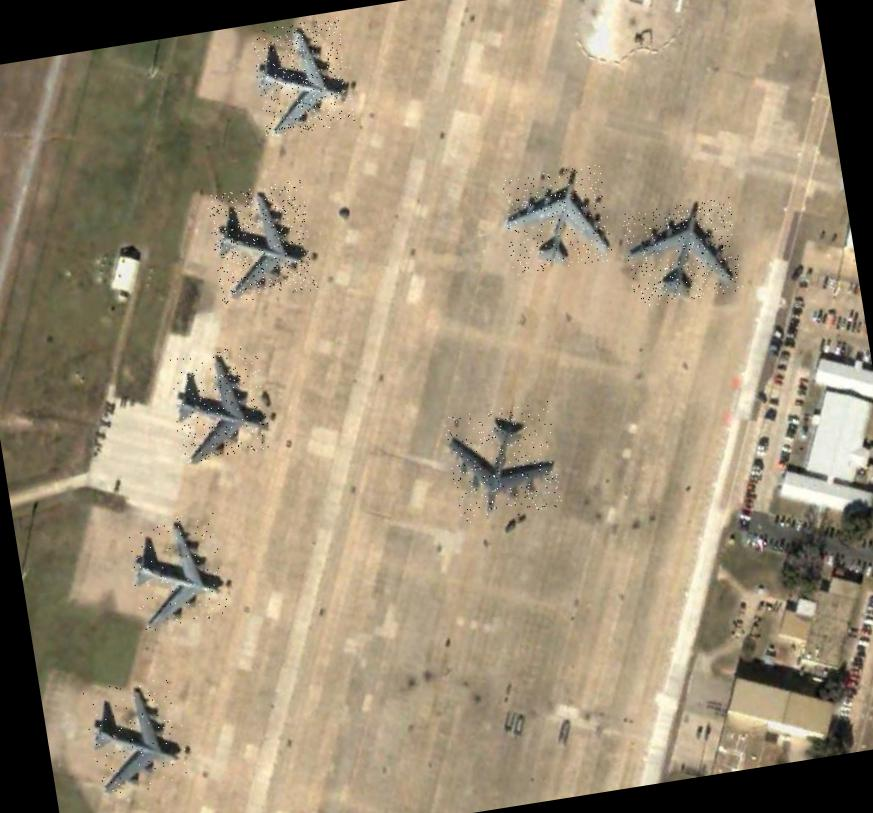A8: (442, 400, 564, 524), (205, 180, 318, 304), (620, 196, 744, 308), (82, 675, 191, 798), (498, 164, 615, 276), (165, 344, 272, 466), (249, 16, 355, 138), (124, 510, 230, 632)
